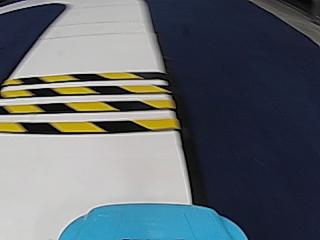bump: (0, 64, 179, 142)
